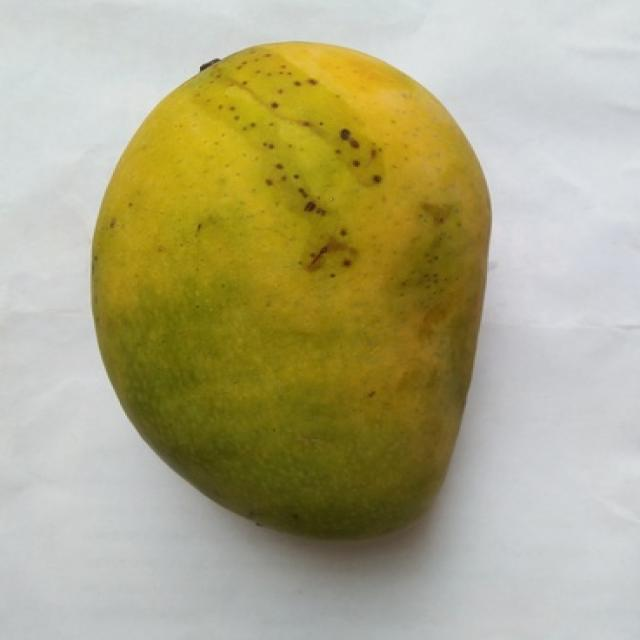Mango: (92, 43, 489, 533)
